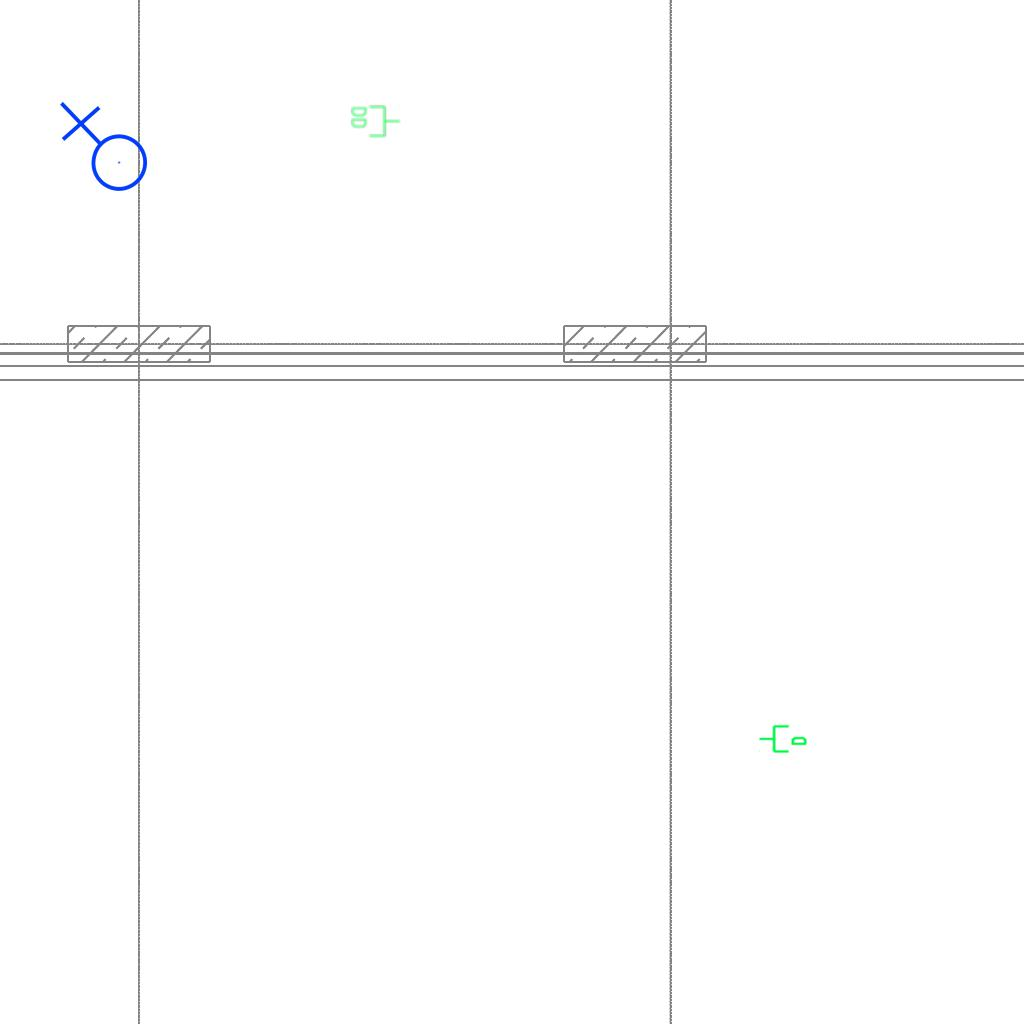Datenanschluss_einfach: (758, 721, 808, 755)
Datenanschluss_zweifach: (350, 104, 401, 138)
Elektroanschluss_allgemein_230V_Geraeteanschlussdose_230V: (55, 101, 149, 200)
